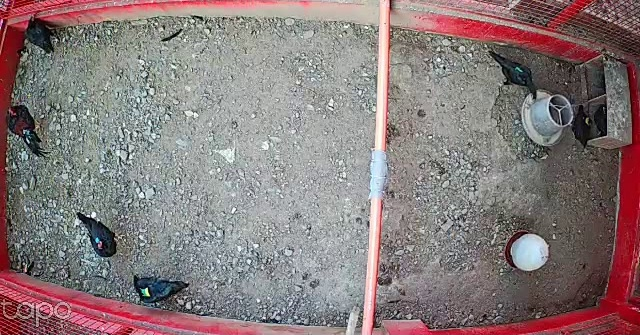Chicken: (484, 48, 539, 103), (74, 210, 128, 258), (21, 12, 63, 58), (132, 273, 189, 303), (569, 103, 594, 148)
Rooster: (2, 102, 52, 161)
Saddle_Color_Blue: (95, 236, 101, 242)
Saddle_Color_YellowGreen: (140, 286, 150, 300)
